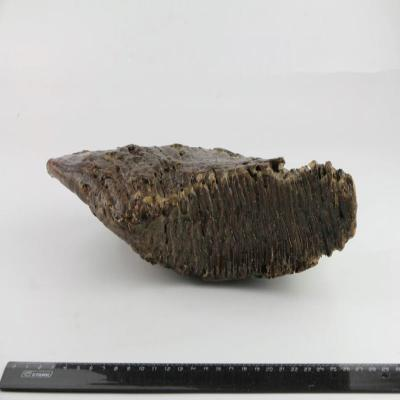natural_science_collection: (45, 144, 358, 285)
